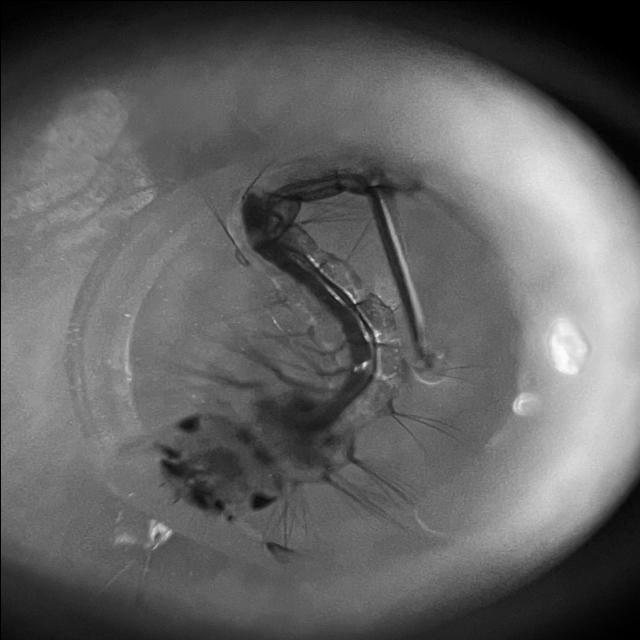larvas: (160, 150, 425, 515)
